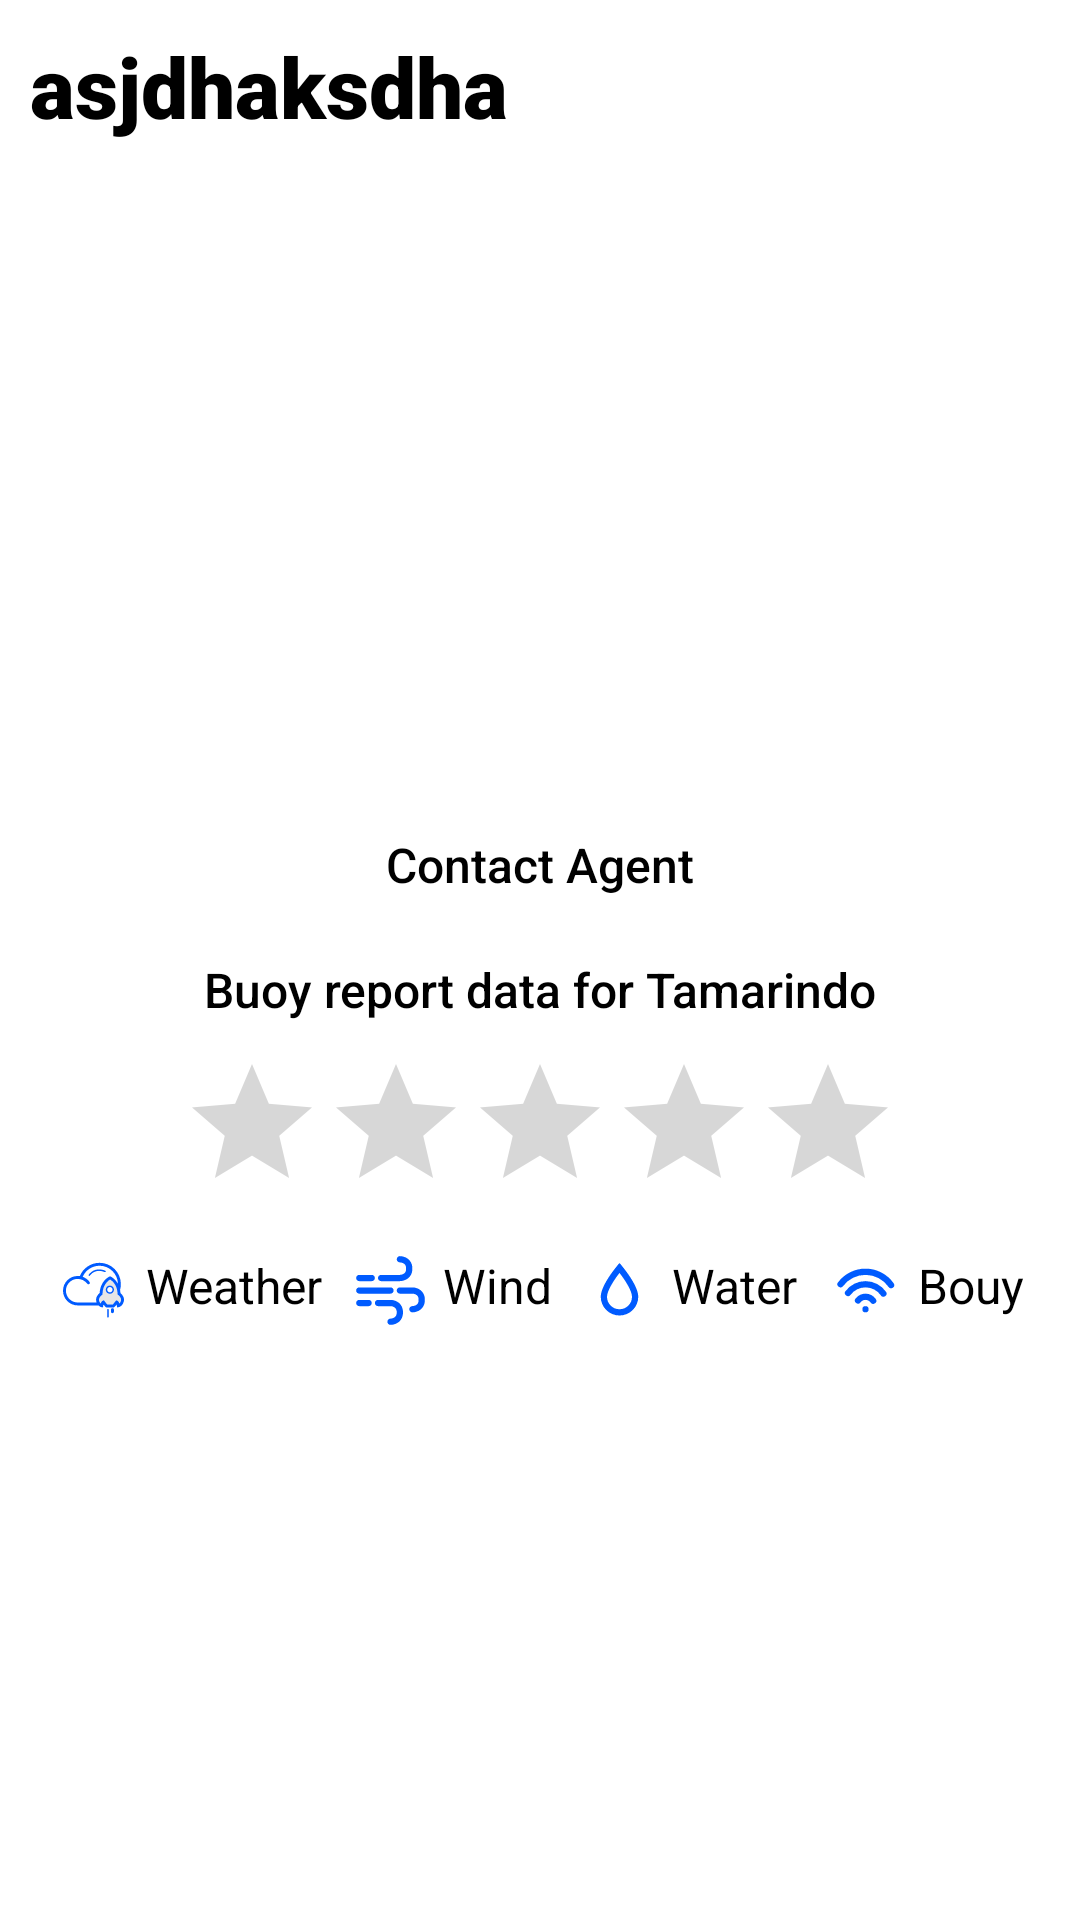

Icon bounding boxes for this 1080px×1920px phone screenshot, format {"left": x1, "top": y1, "right": x2, "bottom": y2}:
cloud: {"left": 63, "top": 1262, "right": 124, "bottom": 1318}
wifi: {"left": 837, "top": 1268, "right": 895, "bottom": 1313}
